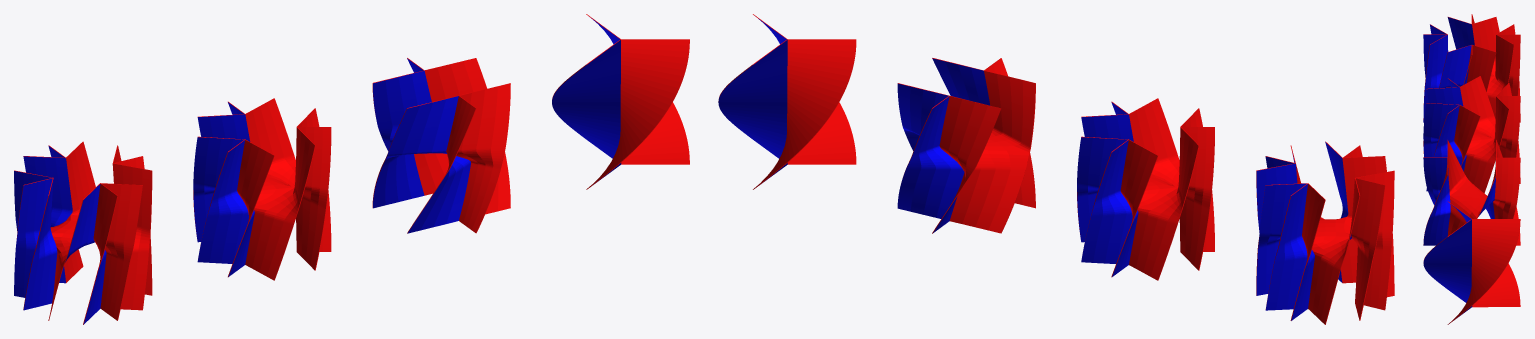
Rendered from nice3folded_ball.glb.
3 views of the same model, side by side, from view 1: azimuth 30°, elevation 25°; view 2: azimuth 150°, elevation 25°; view 3: azimuth 270°, elevation 25° (orthographic). The views are drawn at different scales.
Parts seen in each view (by area): view 1: Circle.002, Circle.001, Circle.003, Circle; view 2: Circle.002, Circle.001, Circle.003, Circle; view 3: Circle.002, Circle, Circle.003, Circle.001.
Boxes of the visible parts, x1,y1,x2,y2 form: Circle.002: (193,98,331,280); Circle.001: (372,58,510,233); Circle.003: (14,141,152,324); Circle: (552,14,689,189); Circle.002: (1077,98,1214,280); Circle.001: (897,58,1035,233); Circle.003: (1256,141,1394,324); Circle: (718,14,856,189); Circle.002: (1423,76,1520,193); Circle: (1423,201,1520,324); Circle.003: (1423,14,1520,122); Circle.001: (1423,140,1520,245).
Size of the model in its own units: 11 by 2 by 2.
